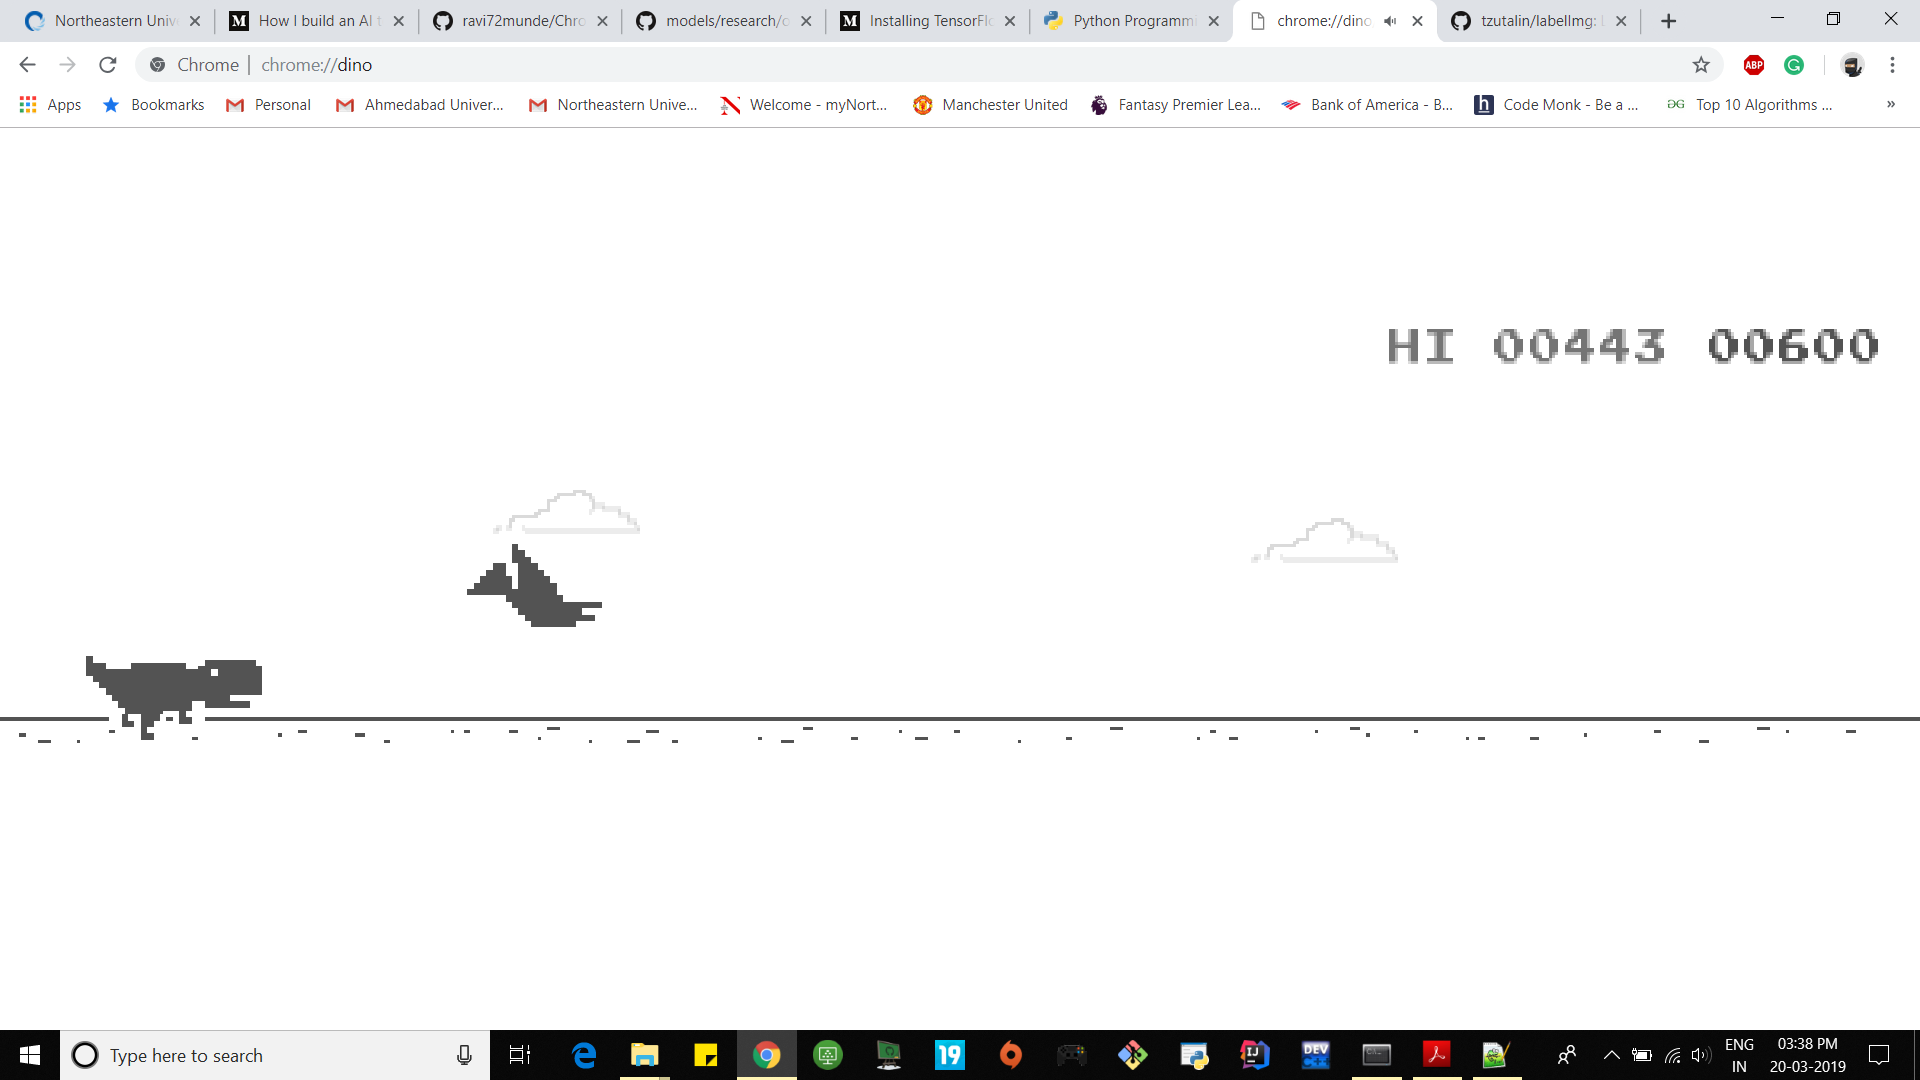bird: (465, 542, 607, 632)
dino: (84, 655, 265, 738)
